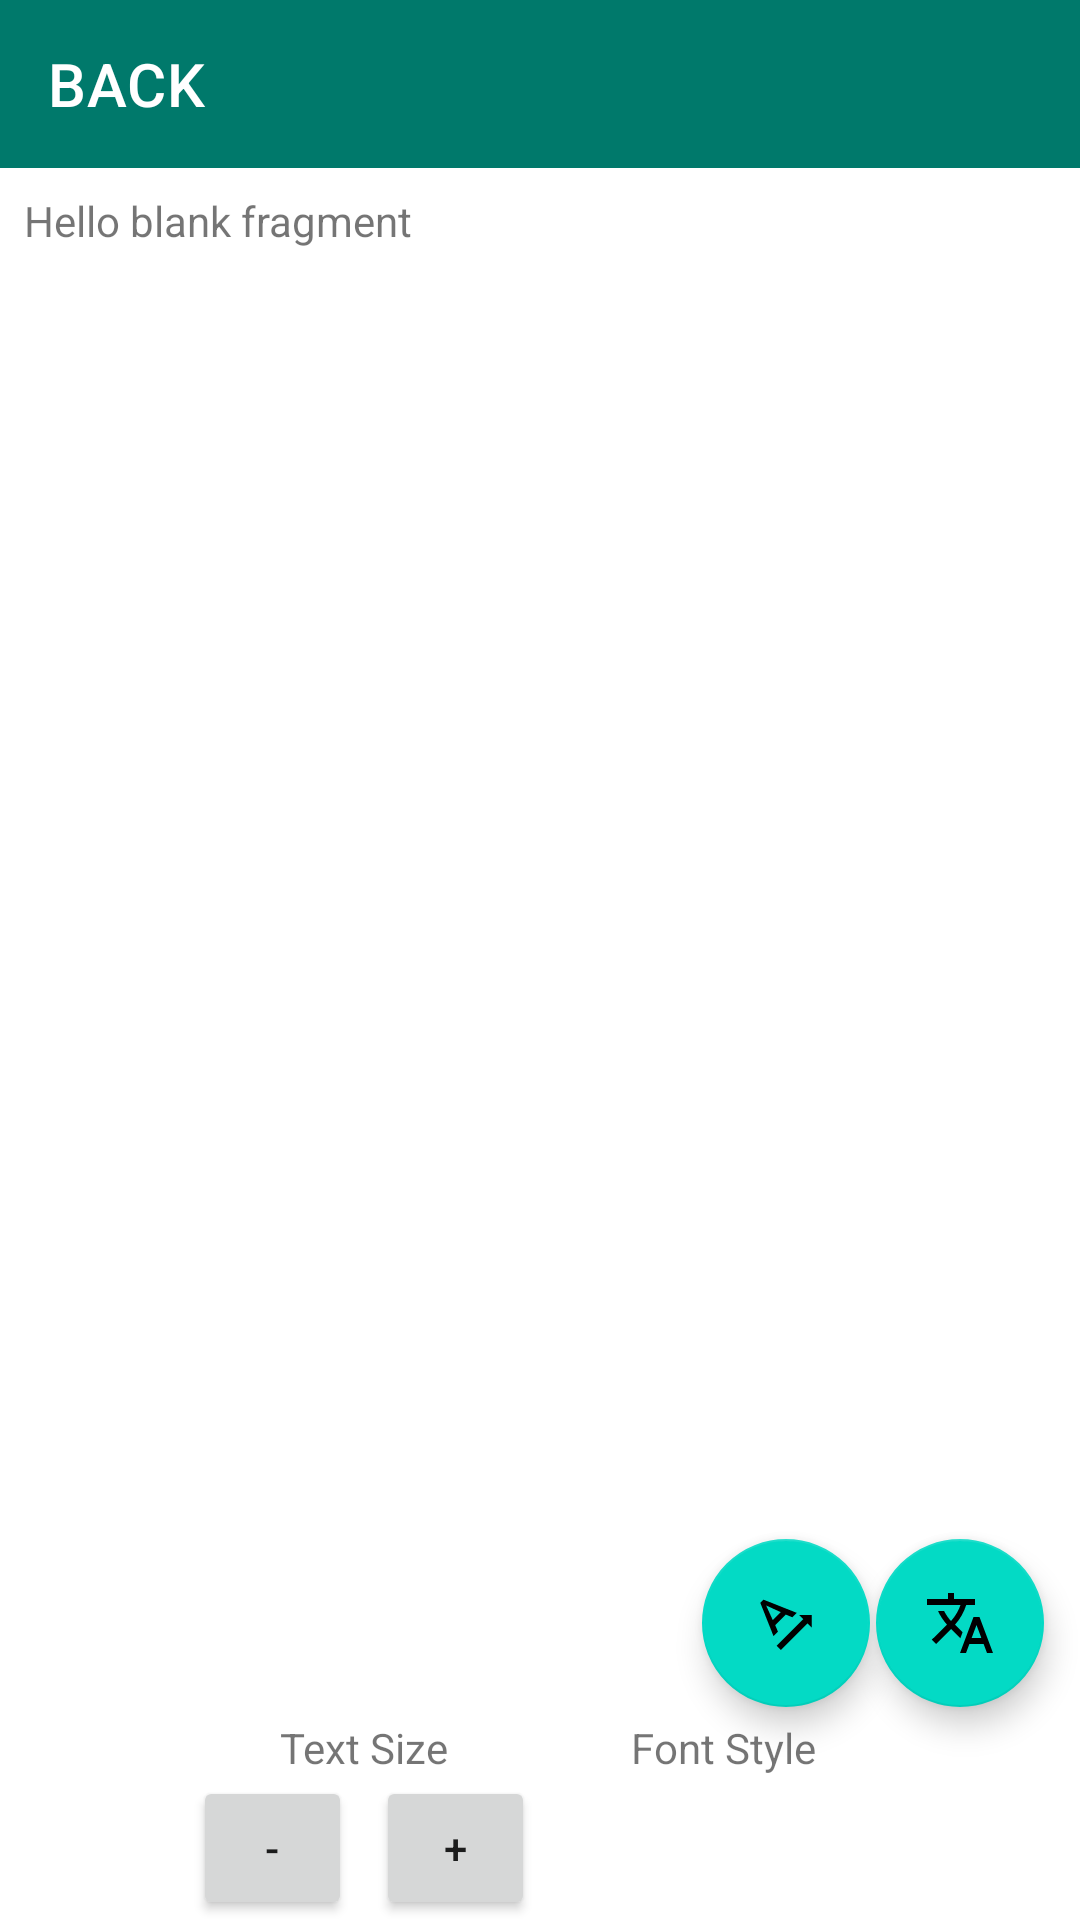

Screen size 1080px×1920px. Icon name, then its box in pixels as (x1, y1, x2, y2):
text rotation angleup: (702, 1539, 870, 1707)
translate: (876, 1539, 1044, 1707)
